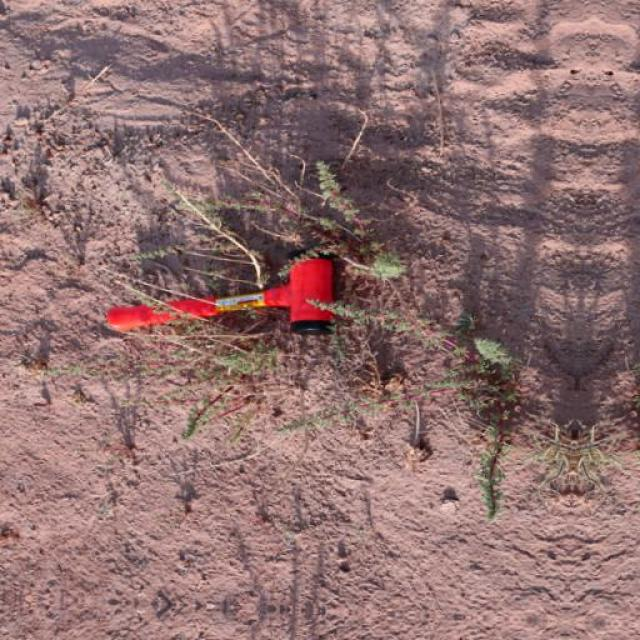mallet: (106, 255, 339, 335)
